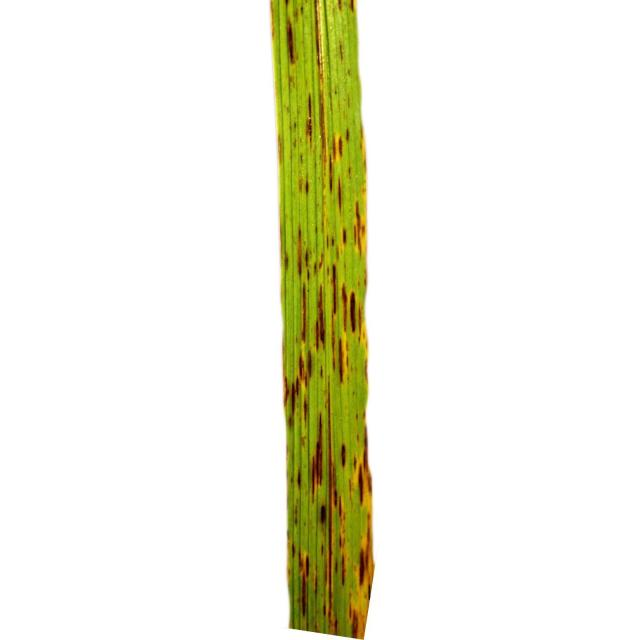Narrow brown: (196, 1, 529, 640)
